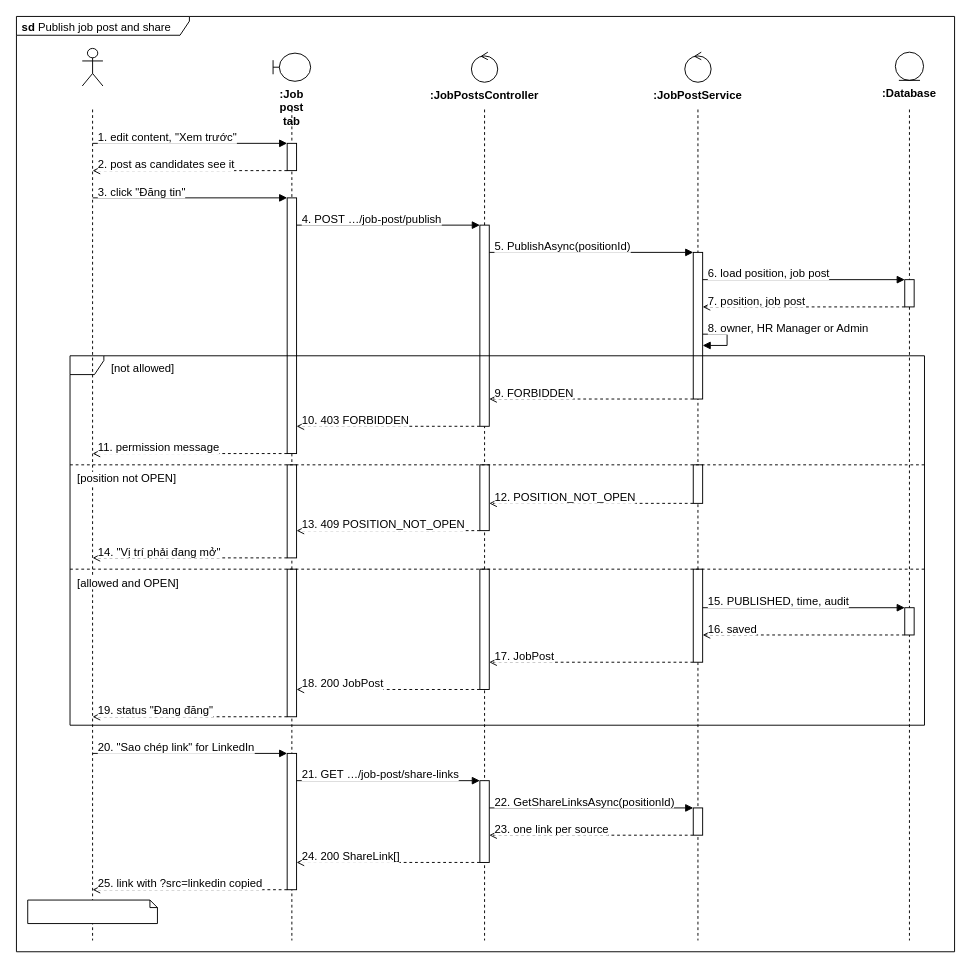
Some shapes in this 971 by 968 pixel diagram are drawn without their labels. The box of each missing label's shape, as (x1, y1, x2, y2) in pixels:
alt: (69, 355, 924, 725)
Recruiter: (81, 47, 103, 86)
Recruiter posts the link: (27, 899, 157, 924)
